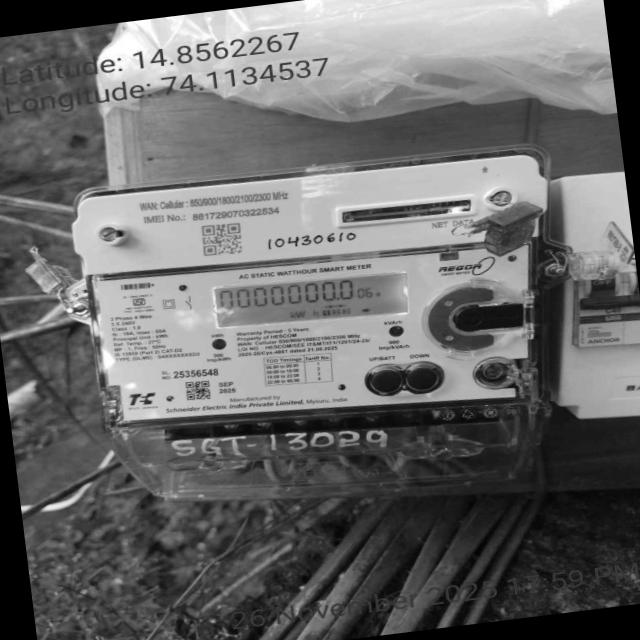meter: (72, 141, 569, 448)
